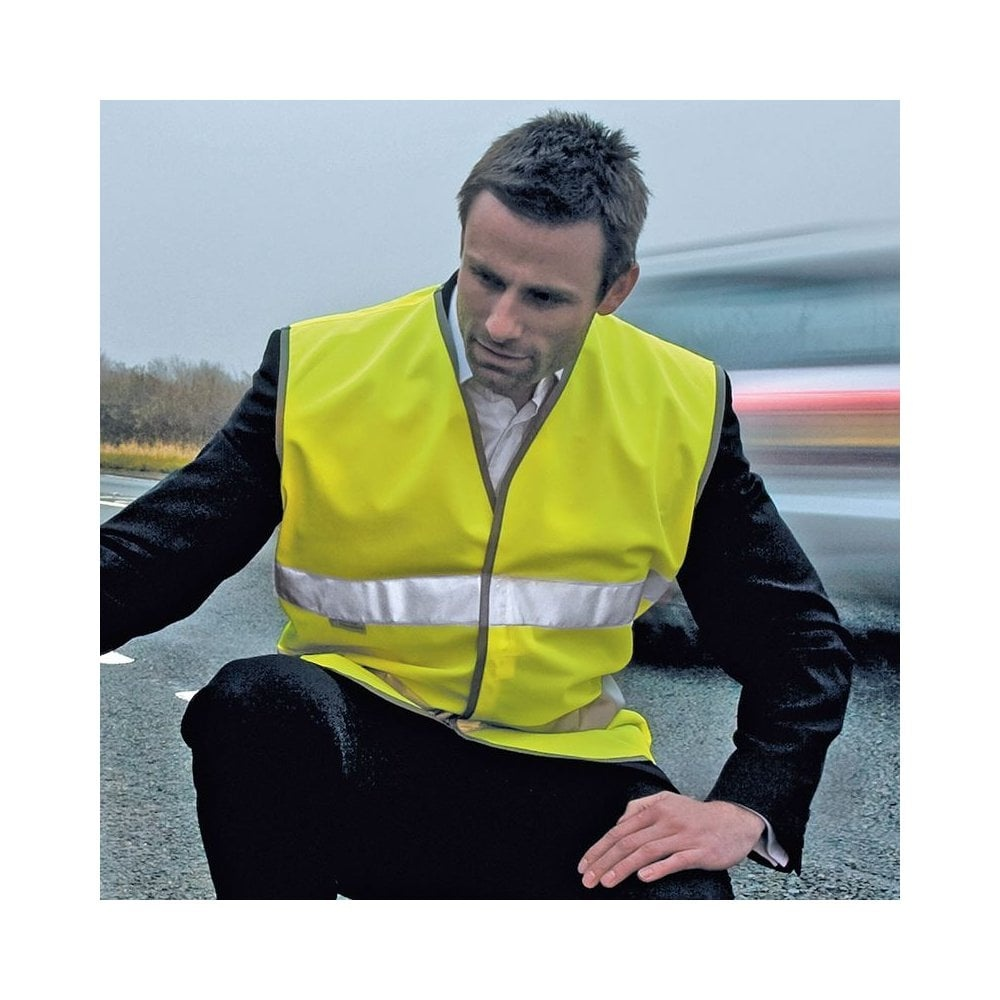person with partial safety: (160, 120, 837, 896)
safety vest: (267, 322, 729, 775)
